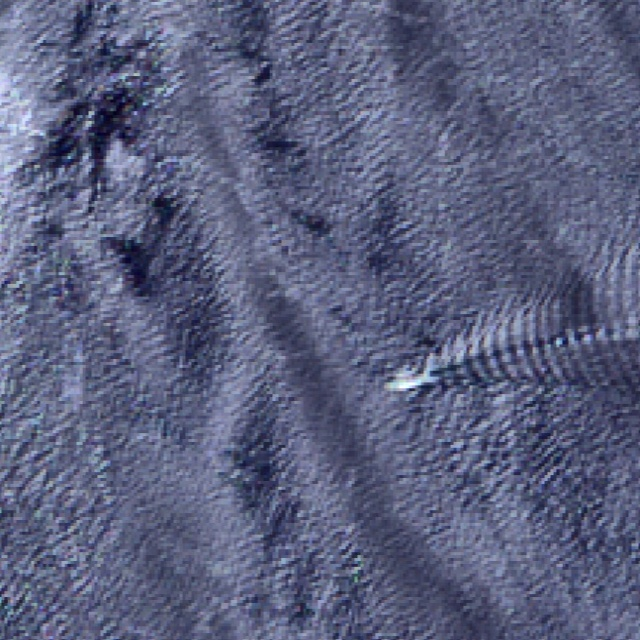wake: (371, 283, 617, 428)
